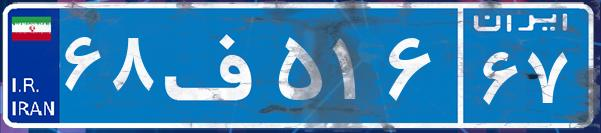1: (330, 28, 385, 110)
5: (273, 28, 330, 110)
6: (385, 28, 445, 110), (57, 26, 110, 107), (475, 38, 525, 113)
7: (525, 38, 570, 115)
8: (110, 28, 158, 105)
ف: (158, 15, 273, 115)
